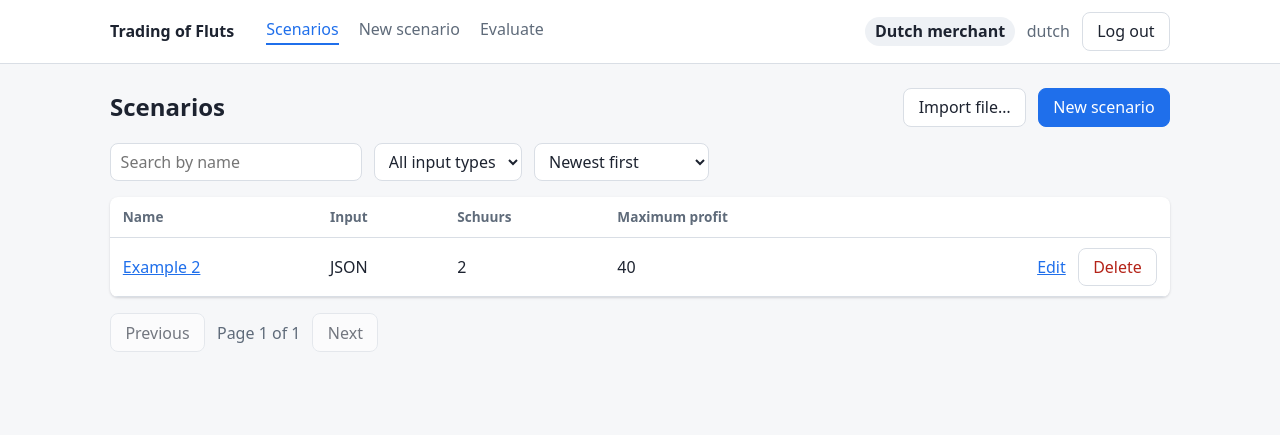
it: ScenarioListPage › shows why a delete failed
Click the button "Delete" at (1118, 267), box 1078,248 -> 1157,286
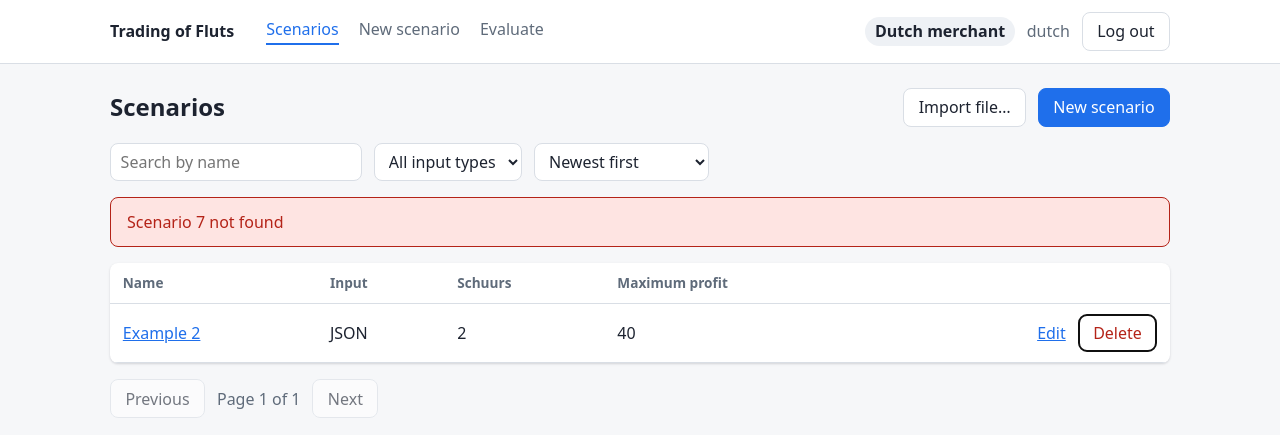
Check: the message reads "Scenario 7 not found", box 127,211 -> 284,233
